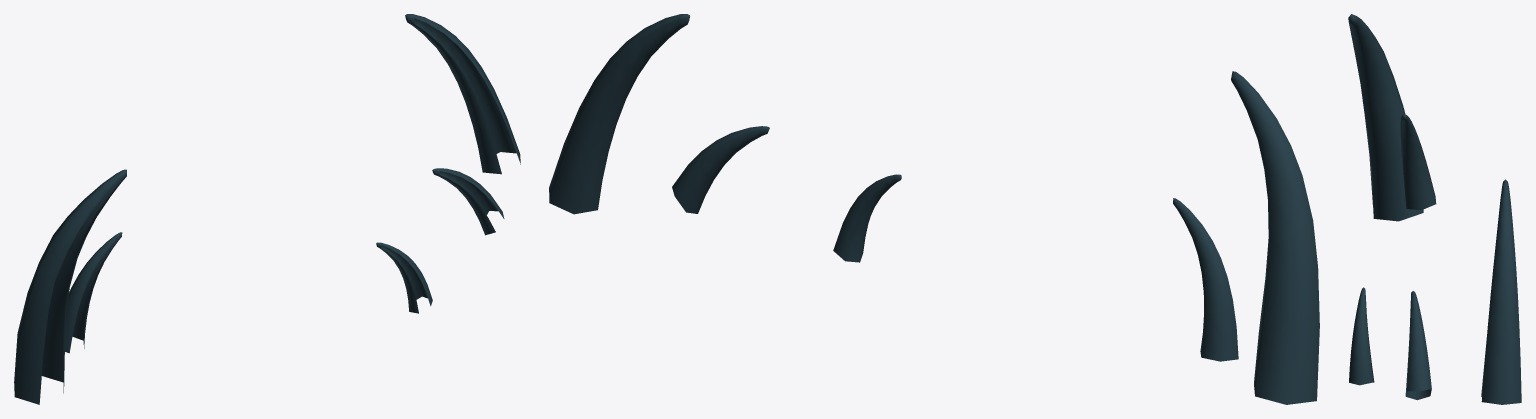
The model's file is GoblinMap03_Bone.fbx.
3 renders of one model, left to right at view 1: azimuth 30°, elevation 25°; view 2: azimuth 150°, elevation 25°; view 3: azimuth 270°, elevation 25°, orthographic. The views are drawn at different scales.
Parts seen in each view (by area): view 1: Bone02; view 2: Bone02; view 3: Bone02.
Boxes of the visible parts, x1,y1,x2,y2 form: Bone02: (14,14,520,404); Bone02: (549,14,1319,404); Bone02: (1348,14,1521,404).
Size of the model in its own units: 974 by 399 by 257.
